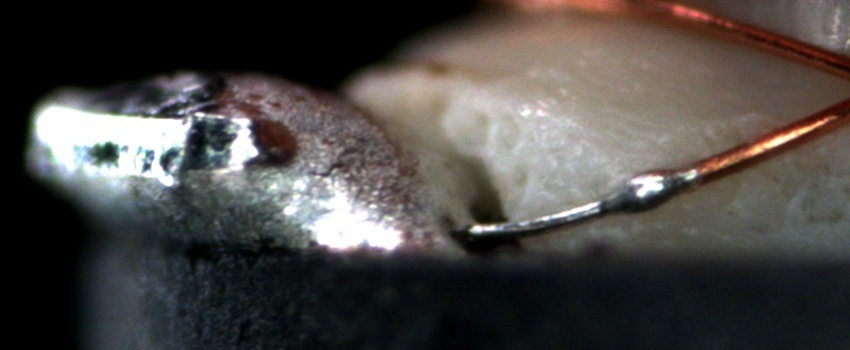TB: (611, 161, 687, 215)
TS: (466, 167, 699, 242)
TTCW: (453, 144, 741, 244)
